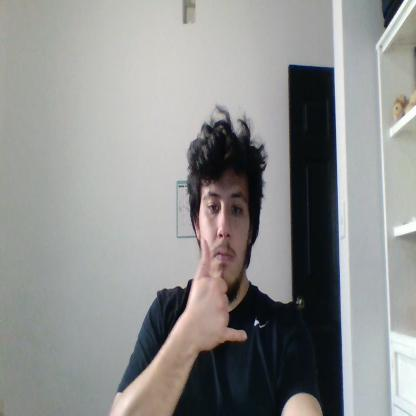Y: (188, 238, 247, 350)
